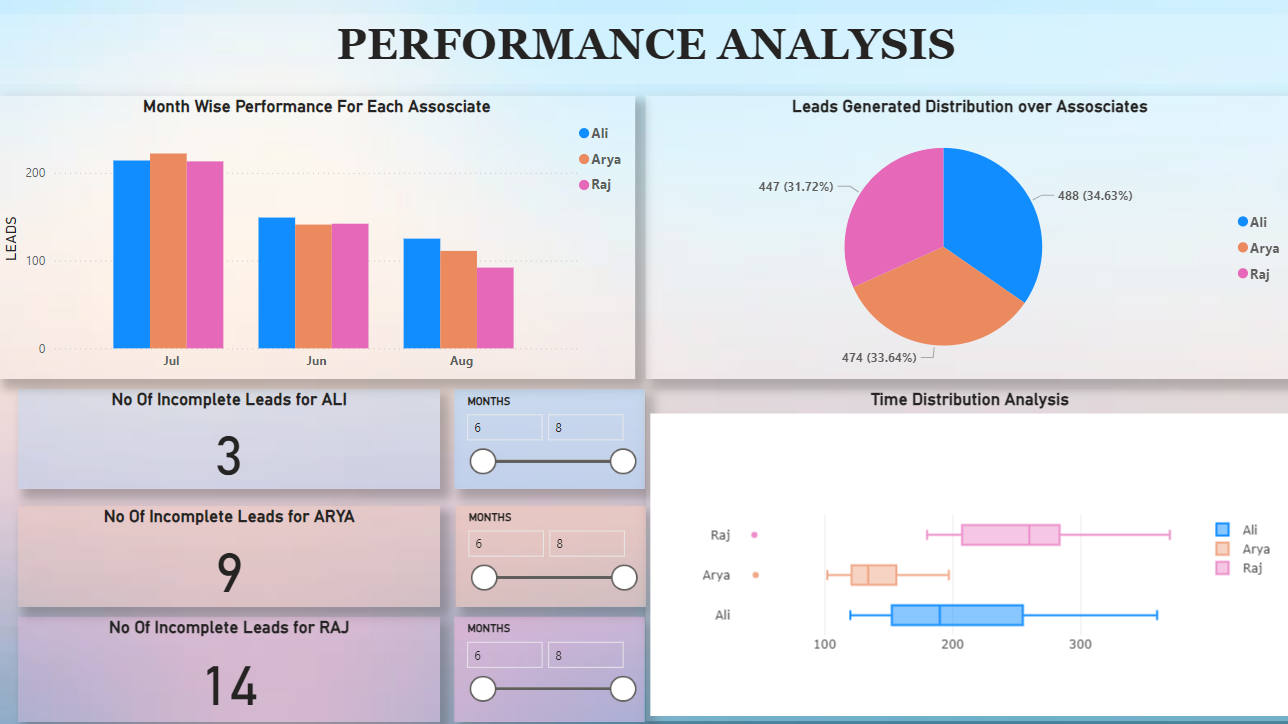

The dashboard page shown, as its layout file describes it:
{"tool":"powerbi","page":{"name":"Performance Analysis","canvas":[1280,720],"ordinal":0},"visuals":[{"type":"clusteredColumnChart","title":"Month Wise Performance For Each Assosciate","fields":{"Series":["MonthWisePer.Assosciate"],"Category":["MonthWisePer.MonthName"],"Y":["Sum(MonthWisePer.TotalLeads)"]},"box":[0,96.1,629.8,279.9],"z":0},{"type":"card","title":"No Of Incomplete Leads for ALI","fields":{"Values":["Sum(Ali.No. of Incomplete Leads)"]},"box":[19.2,387,417.2,98.8],"z":1000},{"type":"slicer","fields":{"Values":["Ali.Month"]},"box":[450.1,387,188,98.8],"z":2000},{"type":"card","title":"No Of Incomplete Leads for ARYA","fields":{"Values":["Sum(Arya.No. of Incomplete Leads)"]},"box":[19.2,500.9,417.2,100.2],"z":3000},{"type":"slicer","fields":{"Values":["Arya.Month"]},"box":[451.5,500.9,188,100.2],"z":4000},{"type":"card","title":"No Of Incomplete Leads for RAJ","fields":{"Values":["Sum(Raj.No. of Incomplete Leads)"]},"box":[19.2,610.6,417.2,104.3],"z":5000},{"type":"slicer","fields":{"Values":["Raj.Month"]},"box":[450.1,610.6,188,104.3],"z":6000},{"type":"boxPloty6C987A9E682A4A859272BFEC966AF372","title":"Time Distribution Analysis","fields":{"category":["Append1.Assosciate"],"measure":["Append1.Time spent on LG (mins)"]},"box":[639.5,387,640.8,328],"z":7000},{"type":"pieChart","title":"Leads Generated Distribution over Assosciates","fields":{"Category":["Append1.Assosciate"],"Y":["Sum(Append1.Leads)"]},"box":[639.5,96.1,640.8,279.9],"z":8000},{"type":"textbox","box":[0,16.5,1280.3,68.6],"z":9000}]}

Visuals, with their boxes in screenshot pixels (x1, y1, x2, y2), scaled from the page's 1280x720 canvas onto the 1288x724 screenshot:
"Month Wise Performance For Each Assosciate" clusteredColumnChart: <bbox>0, 97, 634, 378</bbox>
"No Of Incomplete Leads for ALI" card: <bbox>19, 389, 439, 488</bbox>
slicer - Ali.Month: <bbox>453, 389, 642, 488</bbox>
"No Of Incomplete Leads for ARYA" card: <bbox>19, 504, 439, 604</bbox>
slicer - Arya.Month: <bbox>454, 504, 643, 604</bbox>
"No Of Incomplete Leads for RAJ" card: <bbox>19, 614, 439, 719</bbox>
slicer - Raj.Month: <bbox>453, 614, 642, 719</bbox>
"Time Distribution Analysis" boxPloty6C987A9E682A4A859272BFEC966AF372: <bbox>643, 389, 1287, 719</bbox>
"Leads Generated Distribution over Assosciates" pieChart: <bbox>643, 97, 1287, 378</bbox>
textbox: <bbox>0, 17, 1287, 86</bbox>
